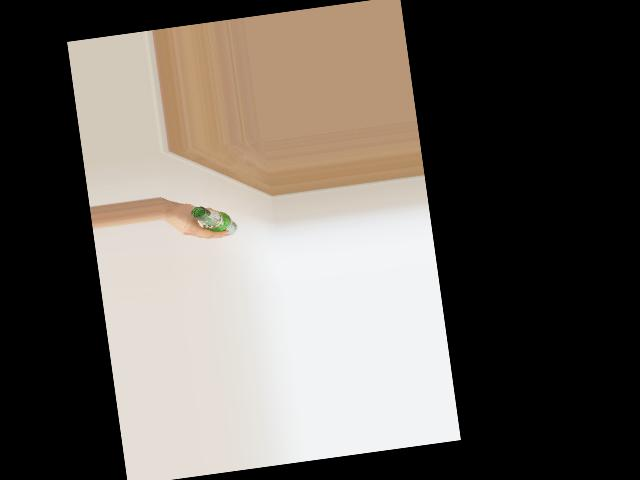beer: (189, 200, 237, 239)
